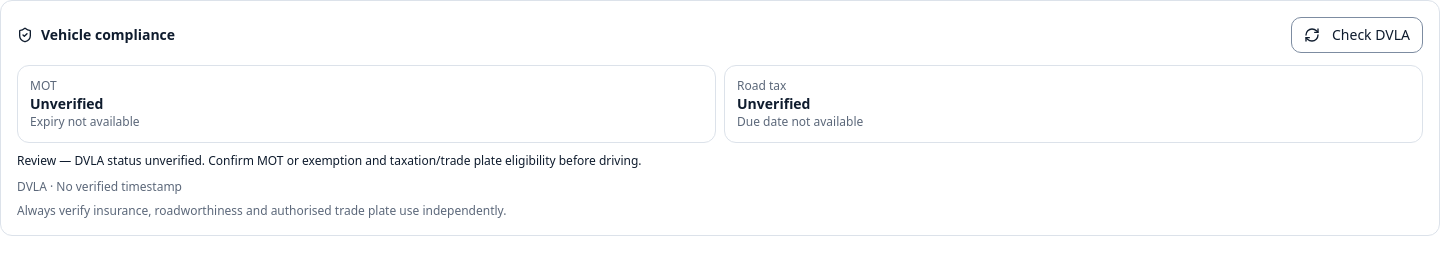
Test: manual pre-pickup compliance › starts unverified and displays matching DVLA data
Expected: the text "No verified timestamp" is shown, left=56, top=178, right=182, bottom=194
Click the button "Check DVLA".
click(1357, 35)  # box left=1291, top=17, right=1423, bottom=53
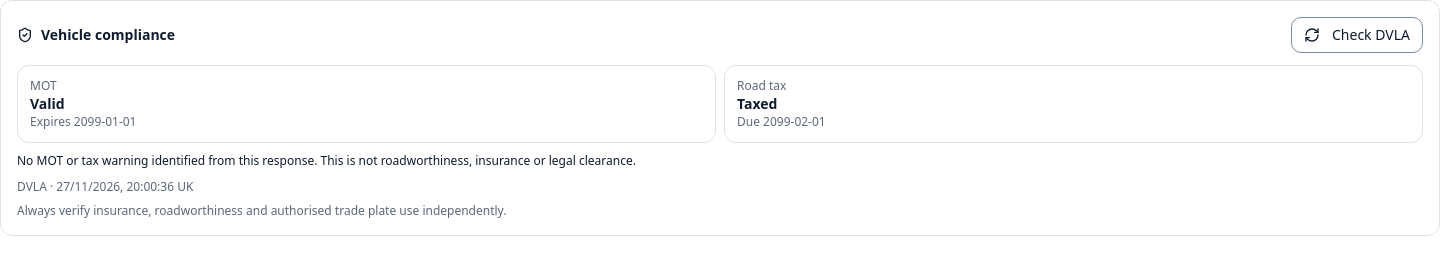
Expected: the text "Valid" is shown, left=30, top=94, right=65, bottom=113
Expected: the text "Taxed" is shown, left=737, top=94, right=777, bottom=113
